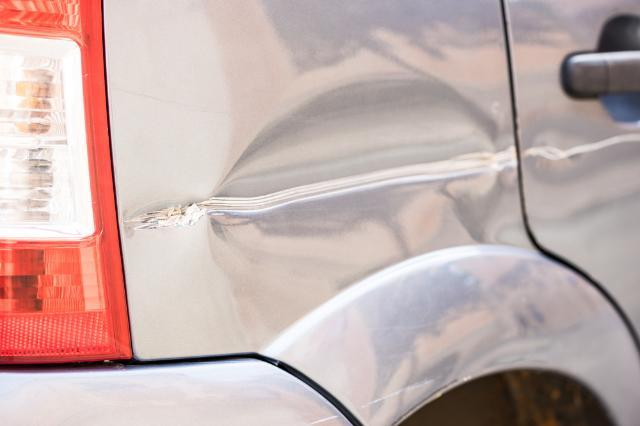dent: (211, 77, 503, 348)
scratch: (122, 193, 217, 234)
